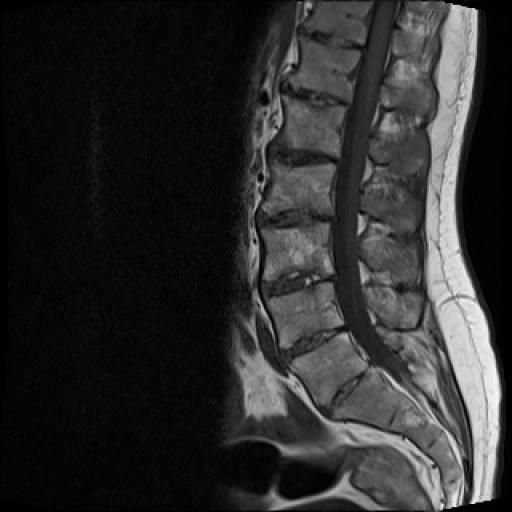L1: (276, 93, 346, 158)
L2: (262, 160, 336, 218)
L3: (260, 222, 335, 280)
L4: (266, 282, 344, 348)
L5: (292, 332, 367, 406)
S1: (327, 366, 405, 428)
